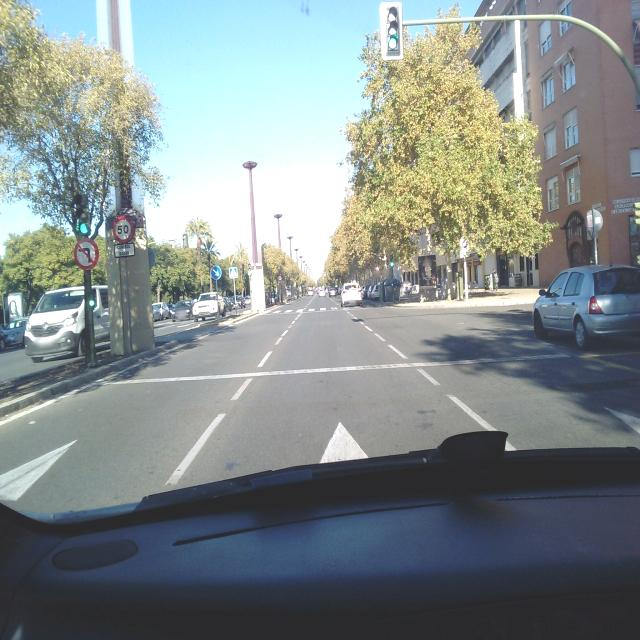car: (532, 262, 640, 350), (24, 283, 111, 363), (1, 317, 30, 352), (192, 292, 221, 321), (340, 281, 362, 307), (170, 300, 193, 320), (152, 302, 168, 321), (370, 284, 380, 300), (361, 284, 370, 298), (223, 296, 232, 310), (327, 286, 336, 298)
